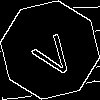V: (25, 25, 79, 82)
